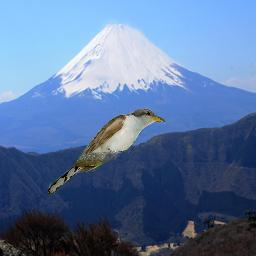Cuckoo: (45, 107, 168, 195)
